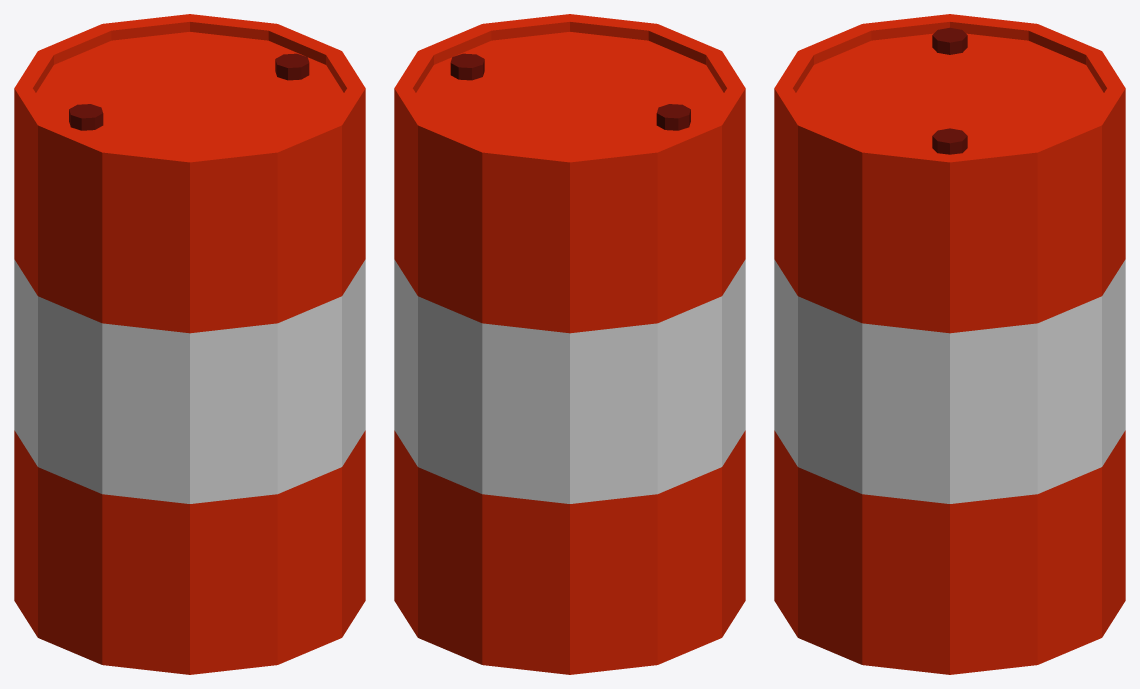
3 views of the same model, side by side, from view 1: azimuth 30°, elevation 25°; view 2: azimuth 150°, elevation 25°; view 3: azimuth 270°, elevation 25° (orthographic).
Parts seen in each view (by area): view 1: Цилиндр; view 2: Цилиндр; view 3: Цилиндр.
Boxes of the visible parts, bbox=[...] form: Цилиндр: bbox=[14, 14, 365, 674]; Цилиндр: bbox=[394, 14, 745, 674]; Цилиндр: bbox=[774, 14, 1125, 674].
Size of the model in its own units: 170 by 274 by 170.
